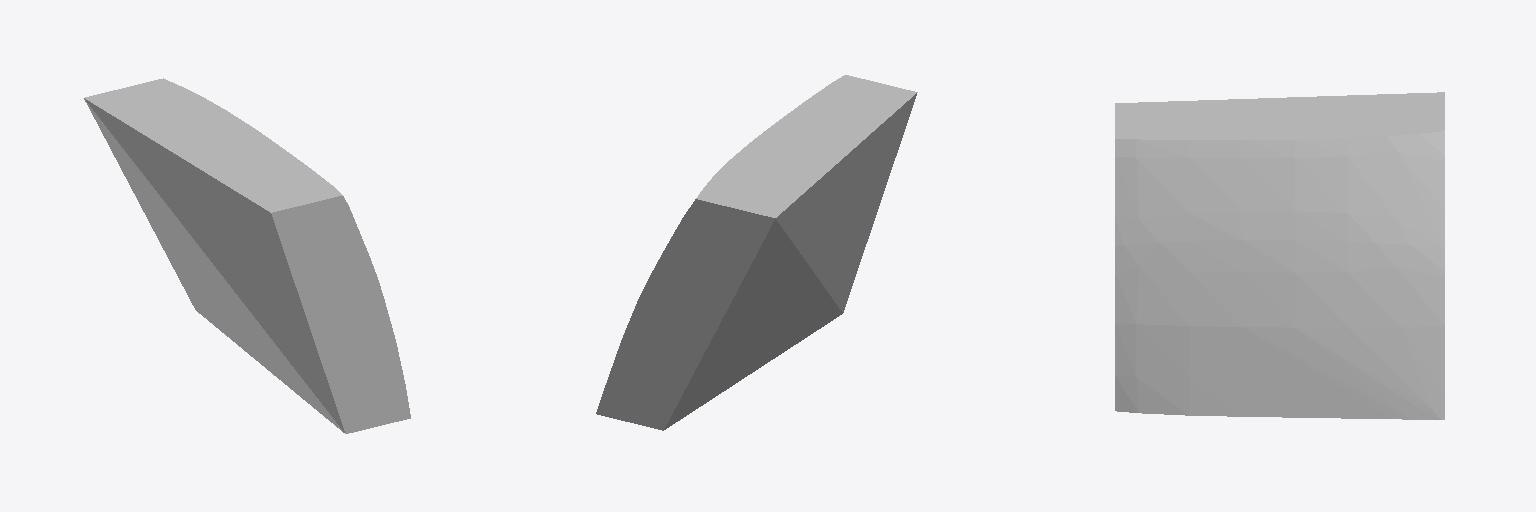
The model's file is phantom-elastrat_collision_525.obj.
The picture shows the model from 3 angles: view 1: azimuth 30°, elevation 25°; view 2: azimuth 150°, elevation 25°; view 3: azimuth 270°, elevation 25°; orthographic projection.
Bounding box in the file's own units: 0.0045 × 0.0058 × 0.0072.